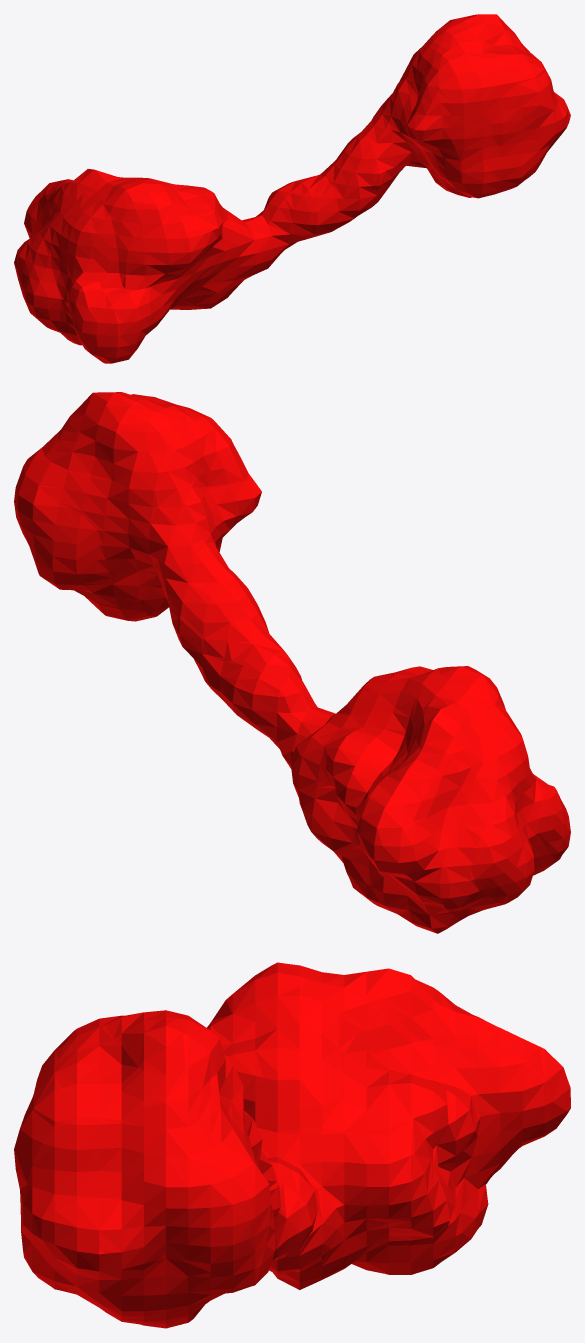
Rendered from rssB_coarse.dae.
The picture shows the model from 3 angles, top to bottom: view 1: azimuth 30°, elevation 25°; view 2: azimuth 150°, elevation 25°; view 3: azimuth 270°, elevation 25°; orthographic projection. The views are drawn at different scales.
Visible parts, largest first — view 1: rssB; view 2: rssB; view 3: rssB.
Boxes of the visible parts, x1,y1,x2,y2 form: rssB: [14, 14, 570, 363]; rssB: [14, 392, 570, 933]; rssB: [14, 962, 570, 1328].
Bounding box in the file's own units: 114 × 68.01 × 69.25.
